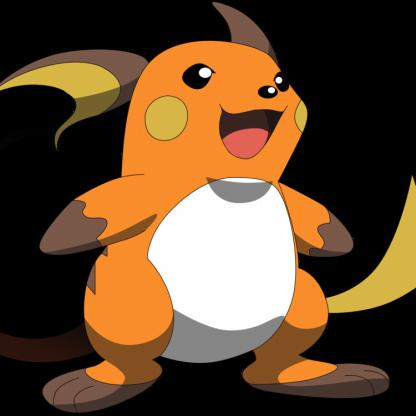Raichu: (1, 1, 409, 409)
